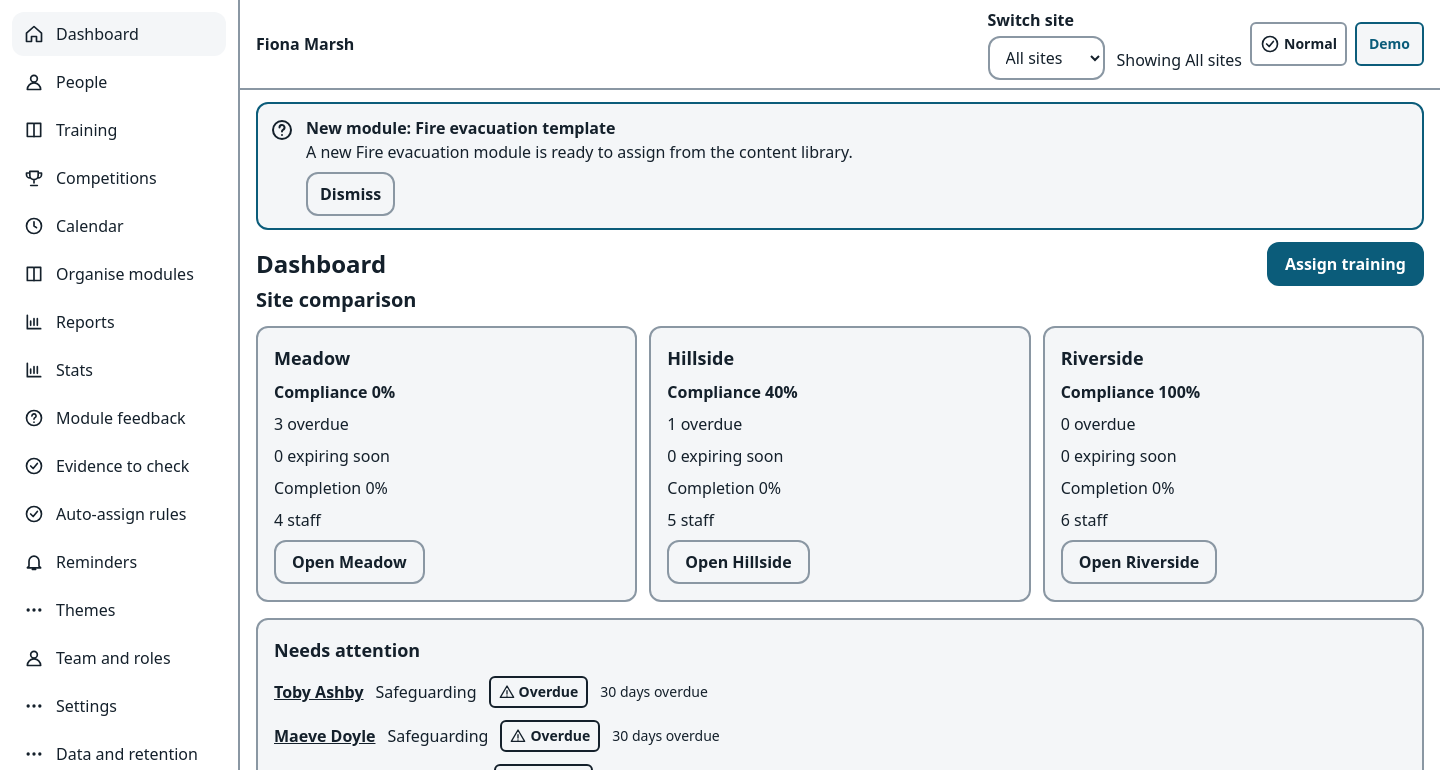
Test: C1 Dashboard site comparison (BP-17, Track A step 8) › drills into Meadow: the switcher shows Meadow, the comparison goes and the lists narrow to Meadow people
The width and height of the screenshot is (1440, 770).
Click the button "Open Meadow" at [349, 562], box [274,540,425,584]
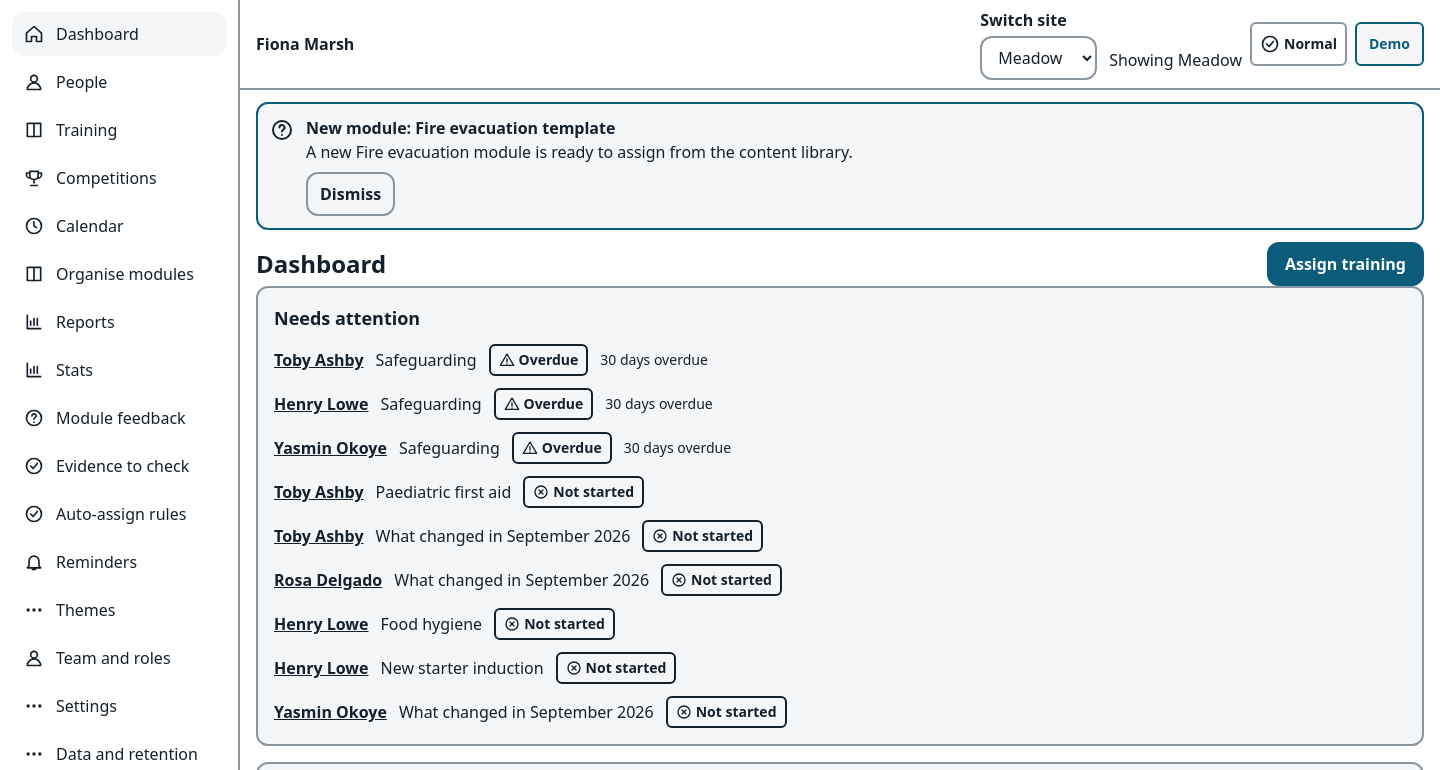
Expected: the heading "Site comparison" is gone
